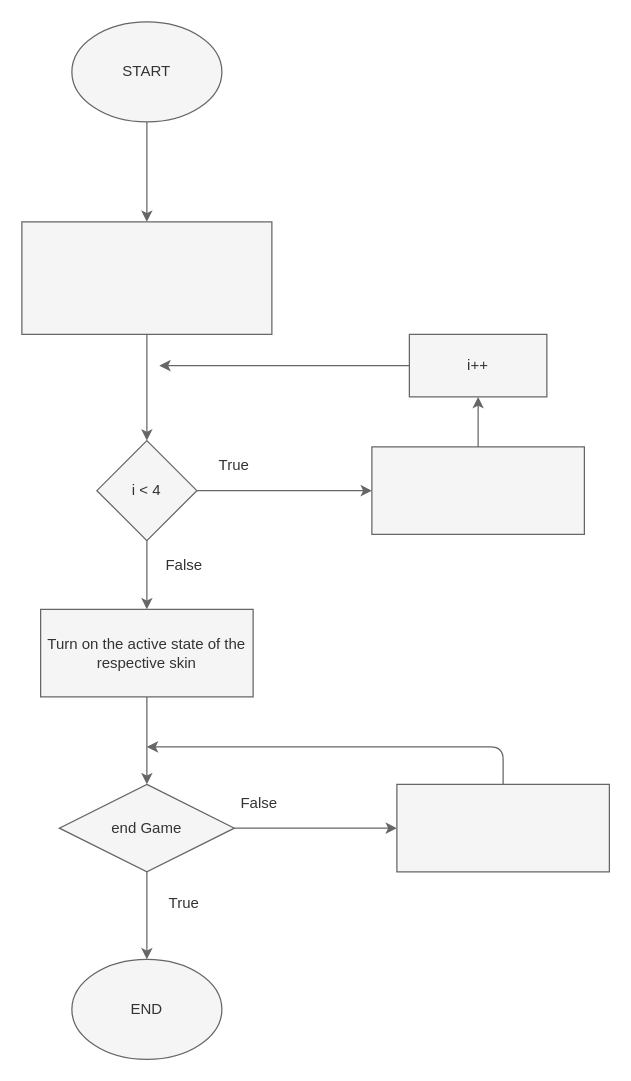
The diagram is 631 pixels wide and 1081 high, and some of its shapes have lost their labels. Here are the shapes that lost their labels. From the top down, the centre of each, then its label:
At [146,277]: "Set only people play number i = 0".
At [477,490]: "Disable element active state".
At [502,827]: "reduced ammo creation time control movement, attack".
